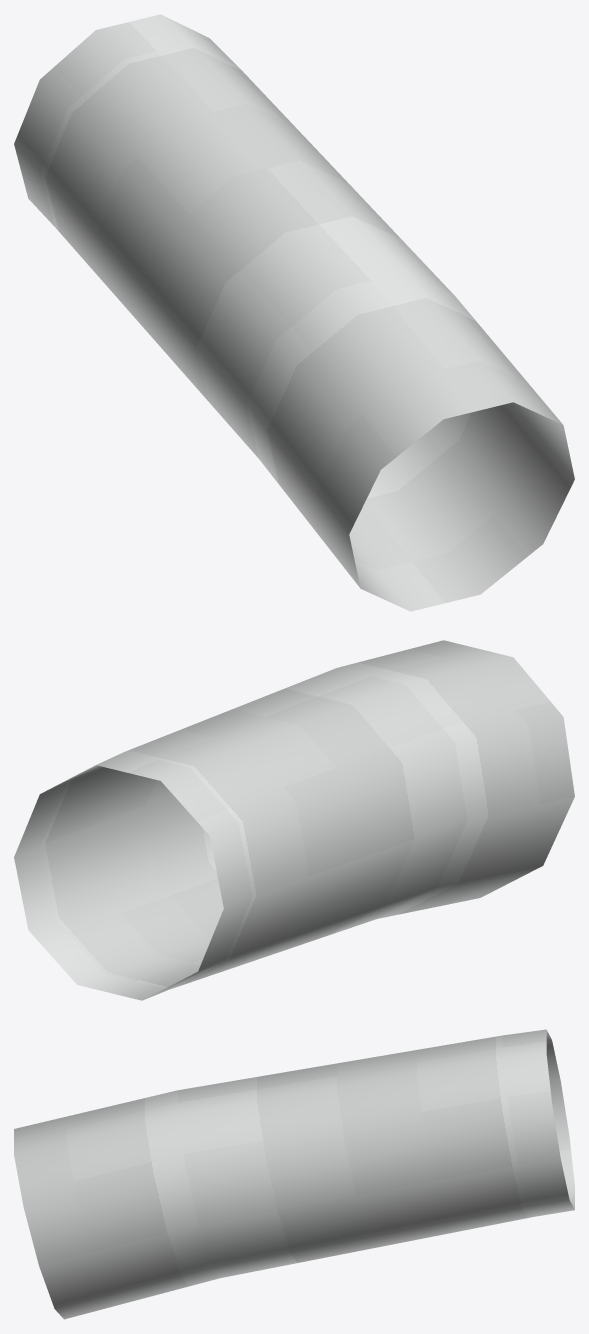
File: nycsignalarm_regular4_c2.obj
3 renders of one model, top to bottom at view 1: azimuth 30°, elevation 25°; view 2: azimuth 150°, elevation 25°; view 3: azimuth 270°, elevation 25°, orthographic. The views are drawn at different scales.
Visible parts, largest first — view 1: nycsignalarm_regular4_c2; view 2: nycsignalarm_regular4_c2; view 3: nycsignalarm_regular4_c2.
Part boxes in pixels (x1,y1,x2,y2): nycsignalarm_regular4_c2: (14,14,574,611); nycsignalarm_regular4_c2: (14,640,574,1000); nycsignalarm_regular4_c2: (14,1029,574,1319).
Bounding box in the file's own units: 0.31 × 0.4576 × 0.8776.
